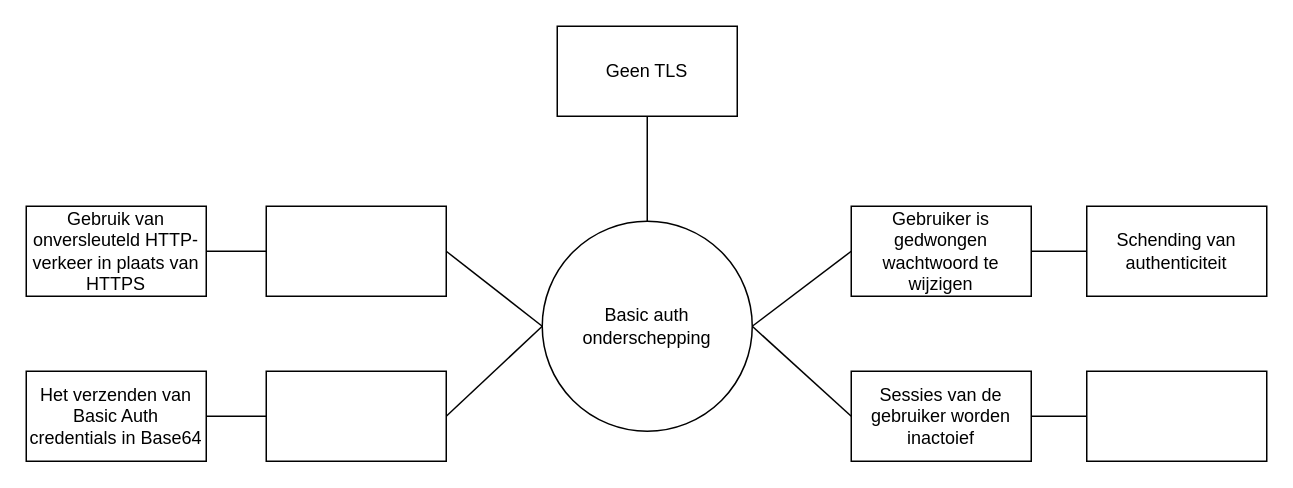
Some shapes in this 1293 by 488 pixel diagram are drawn without their labels. Each missing label, with the centre of its shape:
Overstappen naar token-gebaseerde authenticatie: pixel 355 415
Schending van vertrouwlijkheid voor patienten: pixel 1176 415
Verplicht stellen van TLS/HTTPS op alle /ws/rest/* endpoints: pixel 355 250
